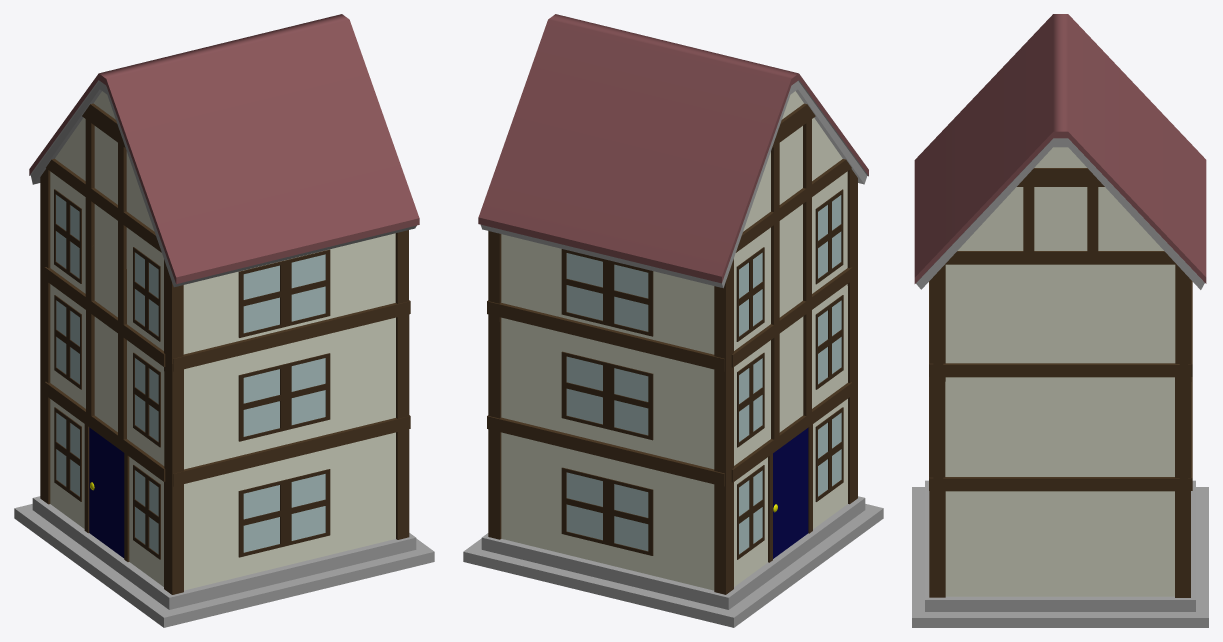
The model's file is houseLevel4.fbx.
The picture shows the model from 3 angles, left to right: view 1: azimuth 30°, elevation 25°; view 2: azimuth 150°, elevation 25°; view 3: azimuth 270°, elevation 25°; orthographic projection.
Visible parts, largest first — view 1: polySurface78; view 2: polySurface78; view 3: polySurface78.
Boxes of the visible parts, x1,y1,x2,y2 form: polySurface78: (14,14,434,627); polySurface78: (463,14,883,627); polySurface78: (912,14,1208,627).
Size of the model in its own units: 6.57 by 11.46 by 6.29.
